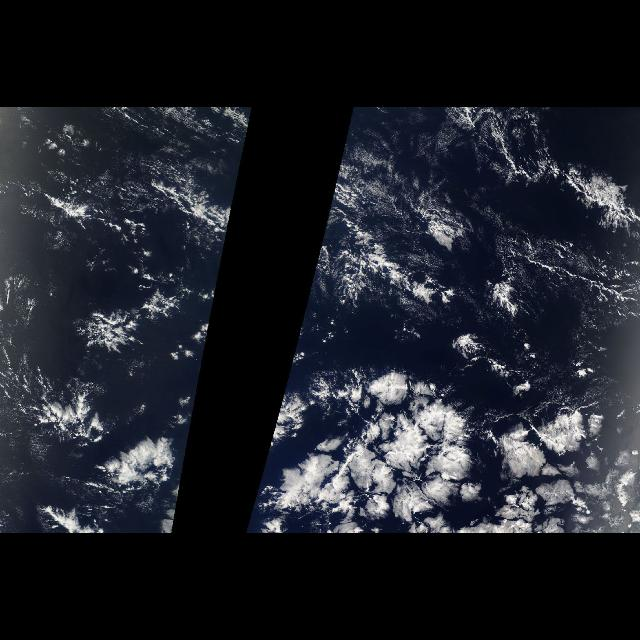Flower: (254, 343, 612, 529)
Sugar: (329, 128, 483, 326)
